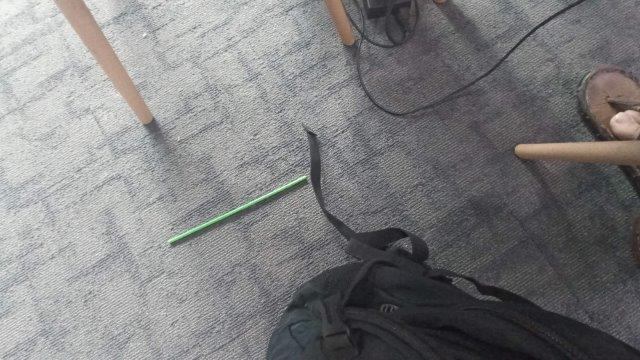sedotan: (168, 176, 306, 244)
